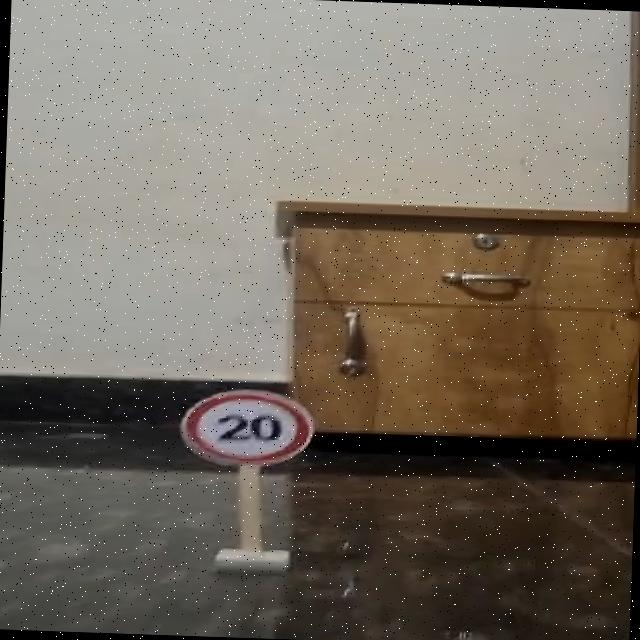Speed20: (168, 381, 330, 473)
